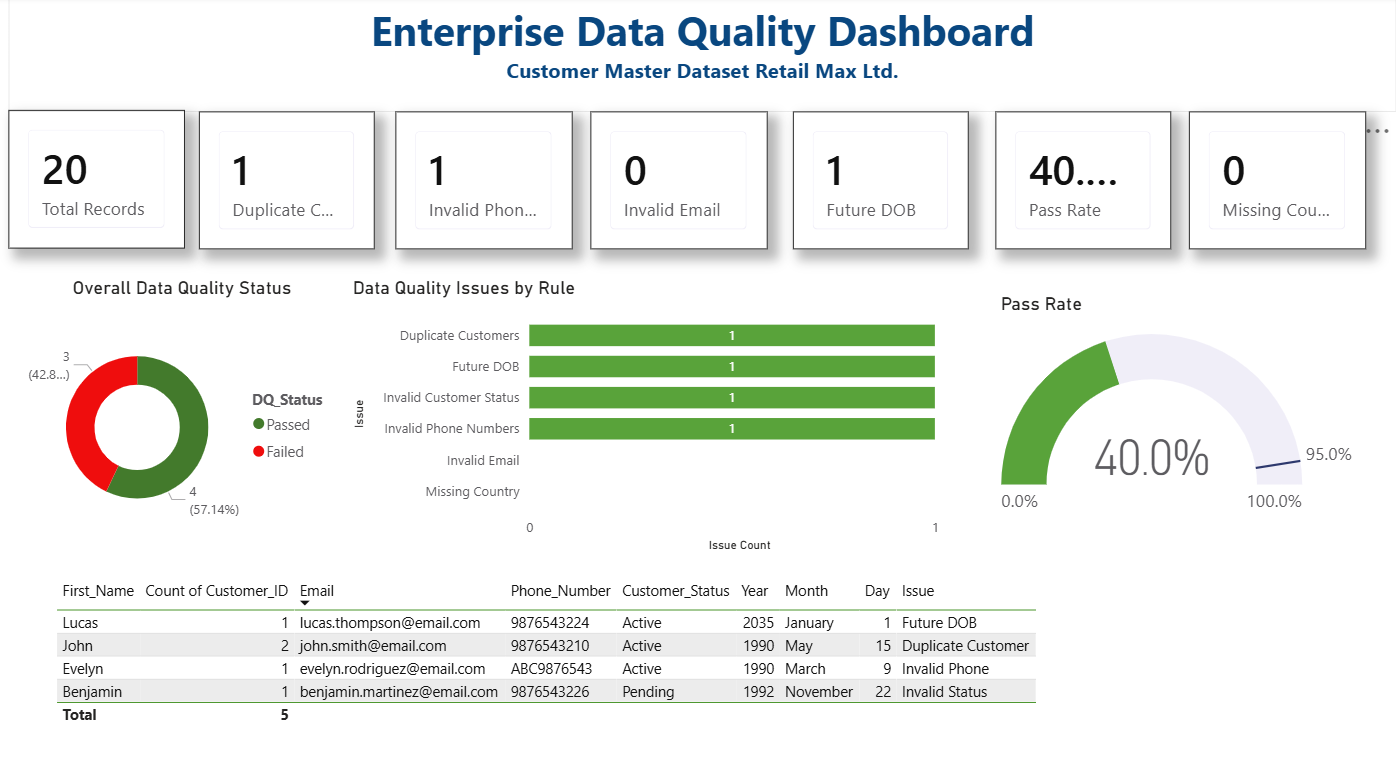

Layout of this report page (visuals, bound fields, positions):
{"tool":"powerbi","page":{"name":"Page 1","canvas":[1280,720],"ordinal":0},"visuals":[{"type":"textbox","box":[9.4,0,1269.9,105.8],"z":0},{"type":"cardVisual","fields":{"Data":["Customer_Master.Total Records"]},"box":[9.7,104.3,161.4,126.6],"z":1000},{"type":"cardVisual","fields":{"Data":["Customer_Master.Duplicate Customers"]},"box":[183.9,105.7,160.6,126.3],"z":2000},{"type":"cardVisual","fields":{"Data":["Customer_Master.Invalid Phone Numbers"]},"box":[363.7,105.7,161.9,126.3],"z":3000},{"type":"cardVisual","fields":{"Data":["Customer_Master.Invalid Email"]},"box":[542.1,105.7,161.9,126.3],"z":4000},{"type":"cardVisual","fields":{"Data":["Customer_Master.Pass Rate"]},"box":[912.6,105.7,160.6,126.3],"z":5000},{"type":"cardVisual","fields":{"Data":["Customer_Master.Missing Country"]},"box":[1089.6,105.7,161.9,126.3],"z":6000},{"type":"cardVisual","fields":{"Data":["Customer_Master.Future DOB"]},"box":[727.3,105.7,160.6,126.3],"z":7000},{"type":"donutChart","title":"Overall Data Quality Status","fields":{"Category":["DQ_Status.DQ_Status"],"Y":["Sum(DQ_Status.Status)"]},"box":[16,256,304,256],"z":8000},{"type":"clusteredBarChart","title":"Data Quality Issues by Rule","fields":{"Category":["DQ_Issues.Issue"],"Y":["Customer_Master.Issue Count"]},"box":[320,256,560,256],"z":9000},{"type":"tableEx","fields":{"Values":["Customer_Master.First_Name","CountNonNull(Customer_Master.Customer_ID)","Customer_Master.Email","Customer_Master.Phone_Number","Customer_Master.Customer_Status","Customer_Master.Date_of_Birth.Variation.Date Hierarchy.Year","Customer_Master.Date_of_Birth.Variation.Date Hierarchy.Month","Customer_Master.Date_of_Birth.Variation.Date Hierarchy.Day","Customer_Master.Issue"]},"box":[48,528,944,176],"z":9001},{"type":"gauge","fields":{"Y":["Customer_Master.Pass Rate"]},"box":[912,272,336,224],"z":9002}]}

Visuals, with their boxes in screenshot pixels (x1, y1, x2, y2), scaled from the page's 1280x720 canvas onto the 1396x769 screenshot:
textbox: BBox(10, 0, 1395, 113)
cardVisual - Customer_Master.Total Records: BBox(11, 111, 187, 247)
cardVisual - Customer_Master.Duplicate Customers: BBox(201, 113, 376, 248)
cardVisual - Customer_Master.Invalid Phone Numbers: BBox(397, 113, 573, 248)
cardVisual - Customer_Master.Invalid Email: BBox(591, 113, 768, 248)
cardVisual - Customer_Master.Pass Rate: BBox(995, 113, 1170, 248)
cardVisual - Customer_Master.Missing Country: BBox(1188, 113, 1365, 248)
cardVisual - Customer_Master.Future DOB: BBox(793, 113, 968, 248)
"Overall Data Quality Status" donutChart: BBox(17, 273, 349, 547)
"Data Quality Issues by Rule" clusteredBarChart: BBox(349, 273, 960, 547)
tableEx - Customer_Master.First_Name x CountNonNull(Customer_Master.Customer_ID): BBox(52, 564, 1082, 752)
gauge - Customer_Master.Pass Rate: BBox(995, 291, 1361, 530)
